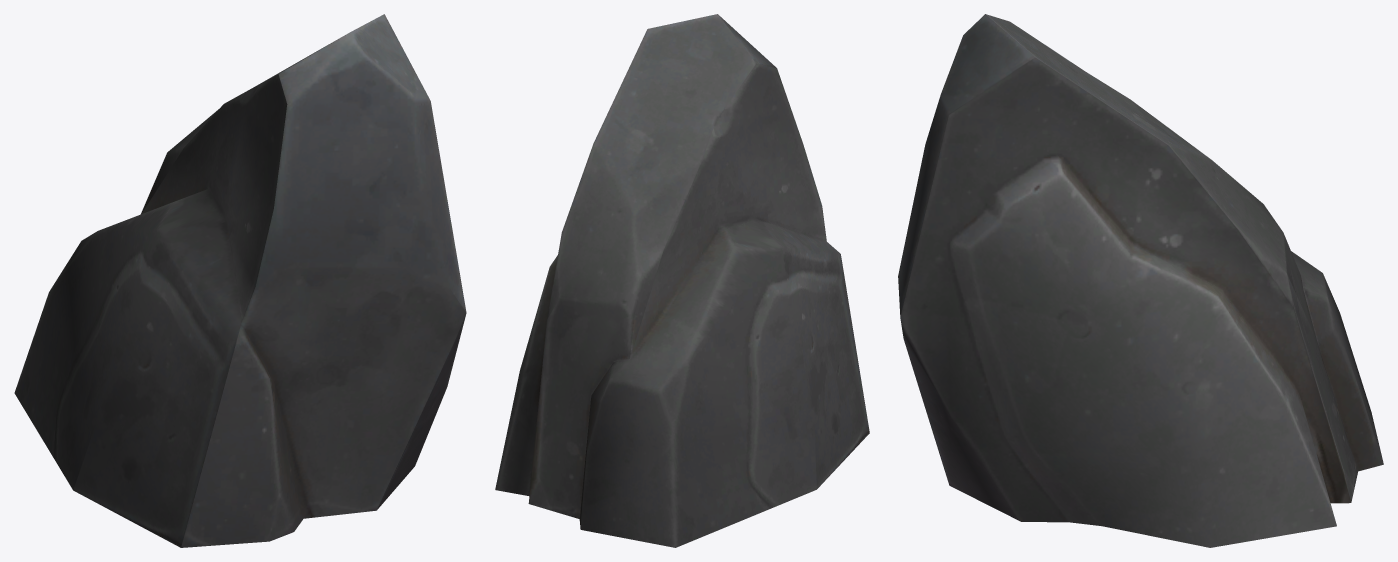
File: Storm_Doodad_KingsCrest_BigChunkyRock_04_Sc2.obj
3 views of the same model, side by side, from view 1: azimuth 30°, elevation 25°; view 2: azimuth 150°, elevation 25°; view 3: azimuth 270°, elevation 25° (orthographic). The views are drawn at different scales.
Parts seen in each view (by area): view 1: Mesh_1; view 2: Mesh_1; view 3: Mesh_1.
Boxes of the visible parts, left/top/right/bottom form: Mesh_1: left=14, top=14, right=466, bottom=547; Mesh_1: left=495, top=14, right=869, bottom=547; Mesh_1: left=898, top=14, right=1383, bottom=547.
Size of the model in its own units: 91.82 by 123 by 115.
1 material, 1 textured.
